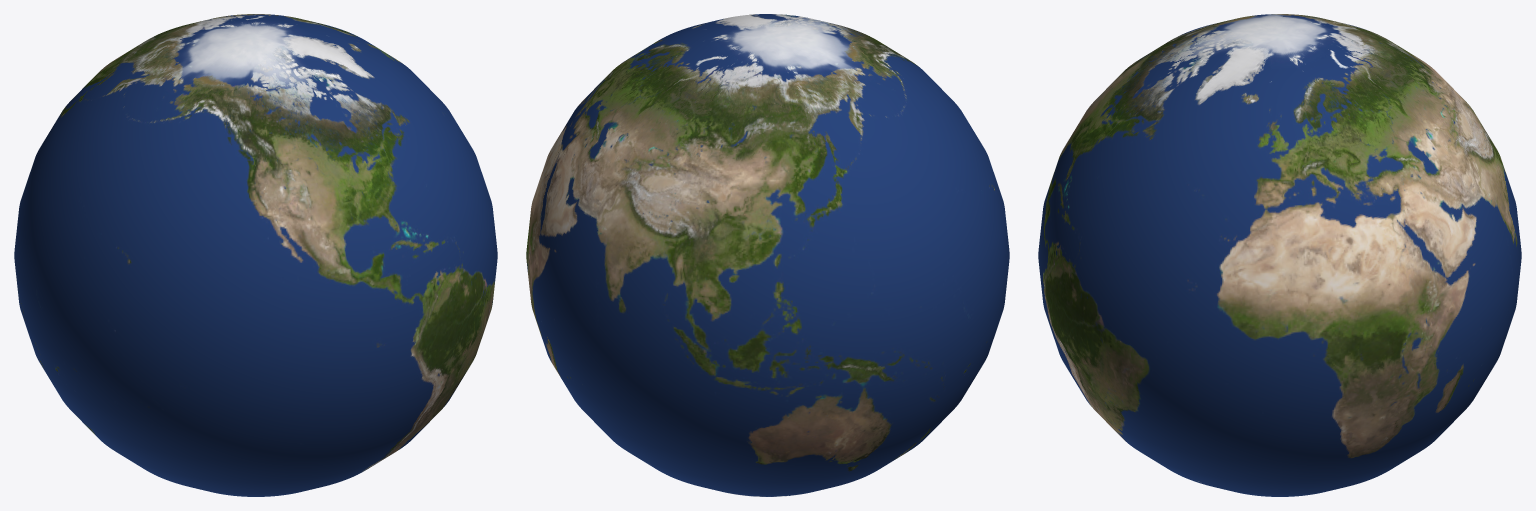
File: Earth.fbx
3 renders of one model, left to right at view 1: azimuth 30°, elevation 25°; view 2: azimuth 150°, elevation 25°; view 3: azimuth 270°, elevation 25°, orthographic.
Visible parts, largest first — view 1: Sphere; view 2: Sphere; view 3: Sphere.
Boxes of the visible parts, x1,y1,x2,y2 form: Sphere: [14, 14, 497, 496]; Sphere: [526, 14, 1009, 496]; Sphere: [1038, 14, 1521, 496].
Size of the model in its own units: 200 by 200 by 200.
1 material, 1 textured.
